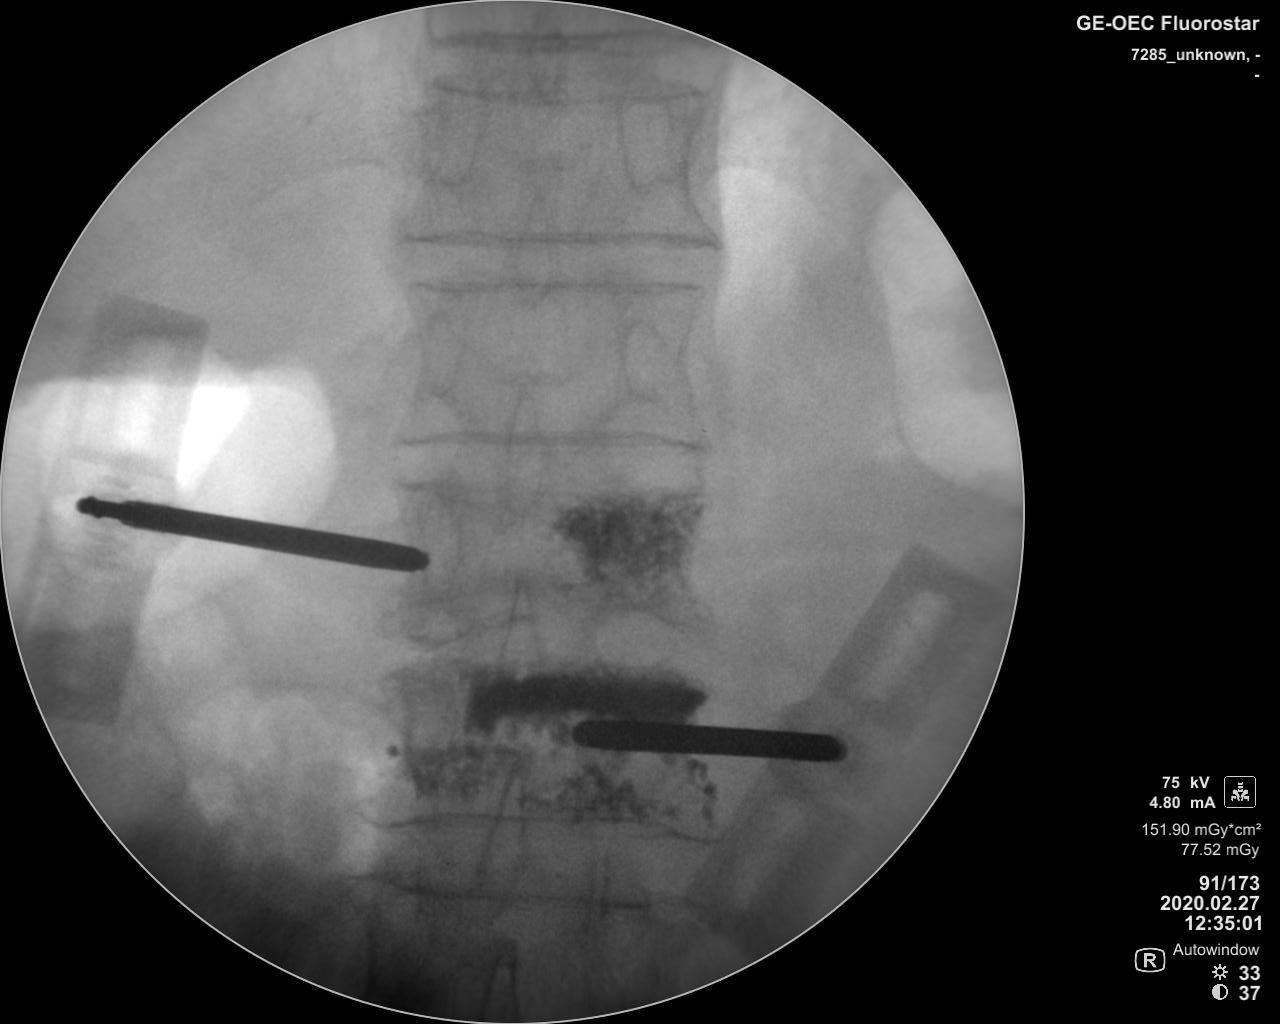eyes: (426, 85, 485, 187), (616, 87, 670, 197), (418, 492, 464, 594), (620, 319, 673, 405), (415, 309, 463, 402)
line: (351, 805, 715, 847), (355, 872, 669, 914), (389, 427, 705, 458), (400, 227, 721, 256), (428, 76, 706, 104), (430, 28, 701, 54), (404, 276, 709, 296)
nose: (475, 760, 527, 904), (501, 382, 549, 519), (510, 189, 553, 310), (501, 569, 545, 681), (527, 11, 567, 107), (478, 939, 522, 1024)
